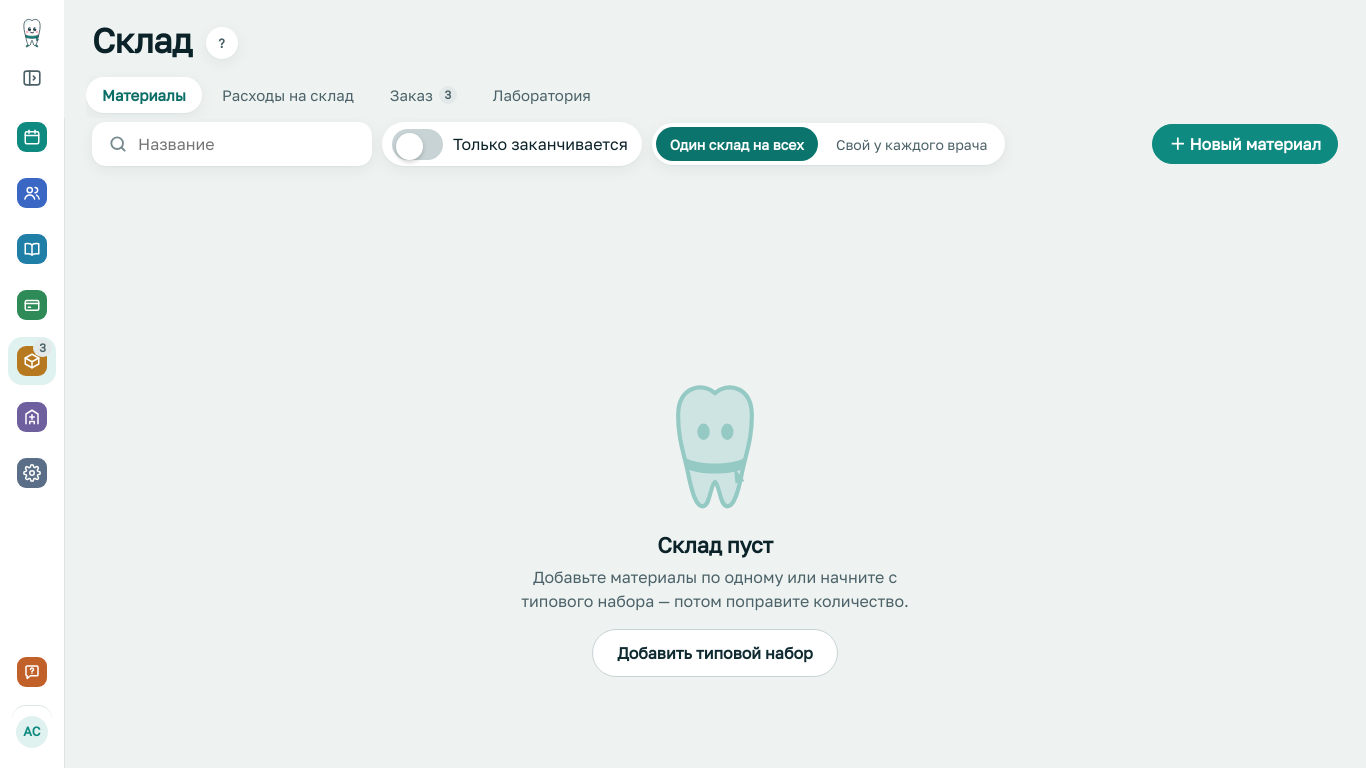
Test: «Склад → Заказ»: по поставщикам, число у подраздела, «Отправить в WhatsApp» — готовый текст
The image size is (1366, 768).
Later steps or results of the test are not shown.
Expected: the navigation bar named "Разделы" is shown, [8,113,56,497]
// Число у подраздела — позиций к заказу
Click the link with aria-label "Заказ · 3" at (423, 95), box [390,86,457,104]
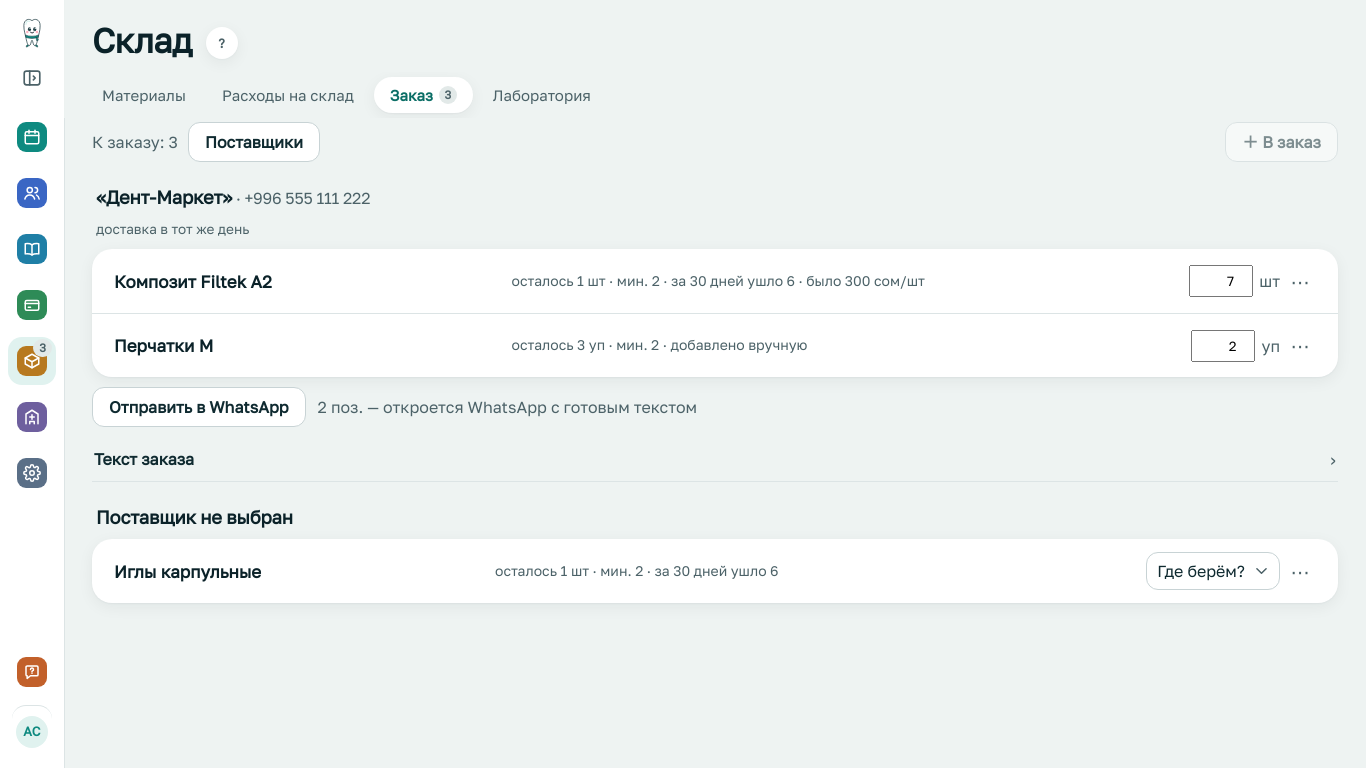
Now the element named "Заказ у Дент-Маркет" shows "доставка в тот же день", box [96,221,249,237]
Now the element named "Заказ у Дент-Маркет" shows "осталось 1 шт · мин. 2 · за 30 дней ушло 6 · было 300 сом/шт", box [512,272,925,289]
Now the number field named "Сколько заказать: Композит Filtek A2" holds "7", box [1189,265,1253,297]
